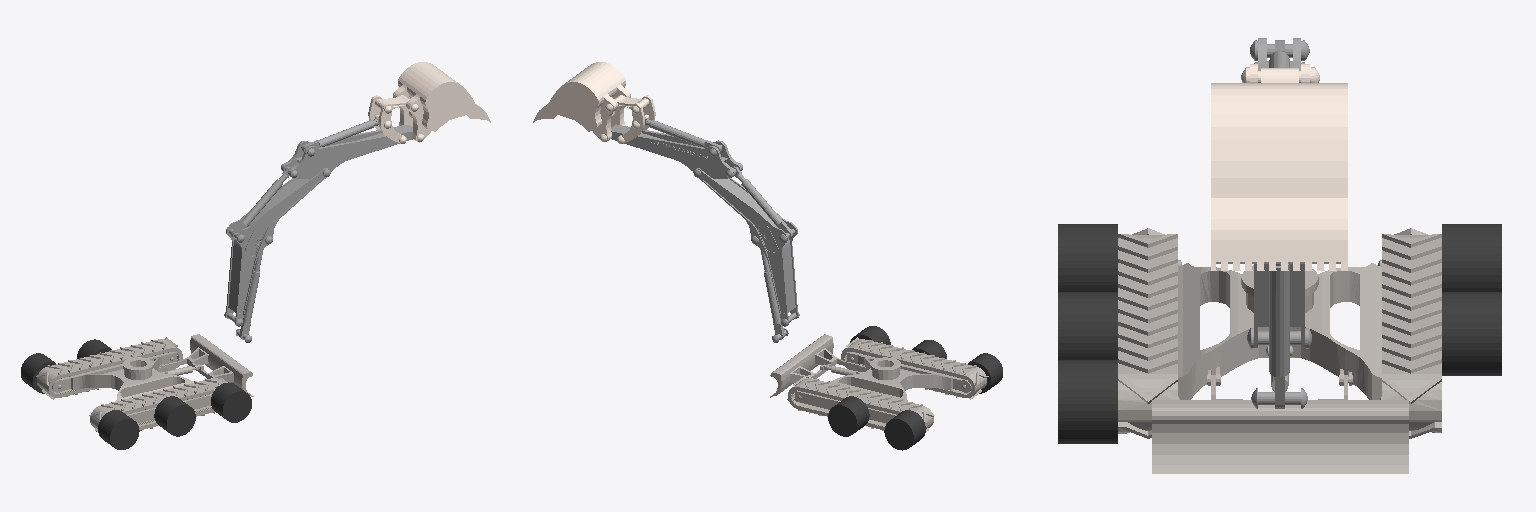
The robot description file, URDF, robot "excavator_six_wheels":
<?xml version="1.0" encoding="utf-8"?>
<!-- This URDF was automatically created by SolidWorks to URDF Exporter! Originally created by [author] ([email redacted]) 
     Commit Version: 1.6.0-4-g7f85cfe  Build Version: 1.6.7995.38578
     For more information, please see http://wiki.ros.org/sw_urdf_exporter -->
<robot
  name="excavator_six_wheels">
  <link
    name="base_link">
    <inertial>
      <origin
        xyz="0.4294466 0.0012485 0.0380234"
        rpy="0 0 0" />
      <mass
        value="1344.5600138" />
      <inertia
        ixx="488.87838"
        ixy="-1.5516108"
        ixz="-14.9719563"
        iyy="896.834612"
        iyz="-0.0436094"
        izz="1351.9933489" />
    </inertial>
    <visual>
      <origin
        xyz="0 0 0"
        rpy="0 0 0" />
      <geometry>
        <mesh
          filename="package://excavator_six_wheels/meshes/base_link.STL" />
      </geometry>
      <material
        name="">
        <color
          rgba="0.77647 0.75686 0.73725 1" />
      </material>
    </visual>
    <collision>
      <origin
        xyz="0 0 0"
        rpy="0 0 0" />
      <geometry>
        <mesh
          filename="package://excavator_six_wheels/meshes/base_link.STL" />
      </geometry>
    </collision>
  </link>
  <link
    name="body_yaw_link">
    <inertial>
      <origin
        xyz="0.059888 -0.0279846 0.310737"
        rpy="0 0 0" />
      <mass
        value="15120.6382761" />
      <inertia
        ixx="5306.8842701"
        ixy="534.6037913"
        ixz="123.0400587"
        iyy="7722.9004147"
        iyz="49.3613714"
        izz="9448.3819272" />
    </inertial>
    <visual>
      <origin
        xyz="0 0 0"
        rpy="0 0 0" />
      <geometry>
        <mesh
          filename="package://excavator_six_wheels/meshes/body_yaw_link.STL" />
      </geometry>
      <material
        name="">
        <color
          rgba="1 0.94902 0.9098 1" />
      </material>
    </visual>
    <collision>
      <origin
        xyz="0 0 0"
        rpy="0 0 0" />
      <geometry>
        <mesh
          filename="package://excavator_six_wheels/meshes/body_yaw_link.STL" />
      </geometry>
    </collision>
  </link>
  <joint
    name="body_yaw_joint"
    type="continuous">
    <origin
      xyz="0 0 0.36323"
      rpy="0 0 0" />
    <parent
      link="base_link" />
    <child
      link="body_yaw_link" />
    <axis
      xyz="0 0 1" />
  </joint>
  <link
    name="boom_pitch_link">
    <inertial>
      <origin
        xyz="0.4173408 -1.1341658 -0.0415453"
        rpy="0 0 0" />
      <mass
        value="724.9528599" />
      <inertia
        ixx="282.0599045"
        ixy="118.3342235"
        ixz="0.0157727"
        iyy="101.1092455"
        iyz="-0.2015522"
        izz="371.1804289" />
    </inertial>
    <visual>
      <origin
        xyz="0 0 0"
        rpy="0 0 0" />
      <geometry>
        <mesh
          filename="package://excavator_six_wheels/meshes/boom_pitch_link.STL" />
      </geometry>
      <material
        name="">
        <color
          rgba="0.69804 0.69804 0.69804 1" />
      </material>
    </visual>
    <collision>
      <origin
        xyz="0 0 0"
        rpy="0 0 0" />
      <geometry>
        <mesh
          filename="package://excavator_six_wheels/meshes/boom_pitch_link.STL" />
      </geometry>
    </collision>
  </link>
  <joint
    name="boom_pitch_joint"
    type="revolute">
    <origin
      xyz="1.5882 0.039526 0.36333"
      rpy="-1.5708 0 0" />
    <parent
      link="body_yaw_link" />
    <child
      link="boom_pitch_link" />
    <axis
      xyz="0 0 1" />
    <limit
      lower="0"
      upper="1.3703"
      effort="0"
      velocity="0" />
  </joint>
  <link
    name="forearm_pitch_link">
    <inertial>
      <origin
        xyz="0.3521181 -0.2255539 -0.328097"
        rpy="0 0 0" />
      <mass
        value="640.9527498" />
      <inertia
        ixx="17.2472302"
        ixy="14.7010027"
        ixz="-0.0567428"
        iyy="203.3293746"
        iyz="-0.0303271"
        izz="211.0722199" />
    </inertial>
    <visual>
      <origin
        xyz="0 0 0"
        rpy="0 0 0" />
      <geometry>
        <mesh
          filename="package://excavator_six_wheels/meshes/forearm_pitch_link.STL" />
      </geometry>
      <material
        name="">
        <color
          rgba="0.69804 0.69804 0.69804 1" />
      </material>
    </visual>
    <collision>
      <origin
        xyz="0 0 0"
        rpy="0 0 0" />
      <geometry>
        <mesh
          filename="package://excavator_six_wheels/meshes/forearm_pitch_link.STL" />
      </geometry>
    </collision>
  </link>
  <joint
    name="forearm_pitch_joint"
    type="revolute">
    <origin
      xyz="1.4233 -2.0381 0.28664"
      rpy="0 0 0" />
    <parent
      link="boom_pitch_link" />
    <child
      link="forearm_pitch_link" />
    <axis
      xyz="0 0 1" />
    <limit
      lower="0"
      upper="0.89604"
      effort="0"
      velocity="0" />
  </joint>
  <link
    name="bucket_pitch_link">
    <inertial>
      <origin
        xyz="0.1222283 -0.3650323 -0.6245809"
        rpy="0 0 0" />
      <mass
        value="643.2329046" />
      <inertia
        ixx="70.6614633"
        ixy="9.1064215"
        ixz="0.1324507"
        iyy="141.5186677"
        iyz="-0.0280834"
        izz="146.0667006" />
    </inertial>
    <visual>
      <origin
        xyz="0 0 0"
        rpy="0 0 0" />
      <geometry>
        <mesh
          filename="package://excavator_six_wheels/meshes/bucket_pitch_link.STL" />
      </geometry>
      <material
        name="">
        <color
          rgba="1 0.94902 0.9098 1" />
      </material>
    </visual>
    <collision>
      <origin
        xyz="0 0 0"
        rpy="0 0 0" />
      <geometry>
        <mesh
          filename="package://excavator_six_wheels/meshes/bucket_pitch_link.STL" />
      </geometry>
    </collision>
  </link>
  <joint
    name="bucket_pitch_joint"
    type="revolute">
    <origin
      xyz="1.4765 -0.24997 0.29735"
      rpy="0 0 0" />
    <parent
      link="forearm_pitch_link" />
    <child
      link="bucket_pitch_link" />
    <axis
      xyz="0 0 1" />
    <limit
      lower="0"
      upper="2.2837"
      effort="0"
      velocity="0" />
  </joint>
  <link
    name="left_wheel_link">
    <inertial>
      <origin
        xyz="0 0 0"
        rpy="0 0 0" />
      <mass
        value="80.8643451" />
      <inertia
        ixx="2.0389608"
        ixy="0"
        ixz="0"
        iyy="2.0389608"
        iyz="2.47E-05"
        izz="2.4269412" />
    </inertial>
    <visual>
      <origin
        xyz="0 0 0"
        rpy="0 0 0" />
      <geometry>
        <mesh
          filename="package://excavator_six_wheels/meshes/left_wheel_link.STL" />
      </geometry>
      <material
        name="">
        <color
          rgba="0.29804 0.29804 0.29804 1" />
      </material>
    </visual>
    <collision>
      <origin
        xyz="0 0 0"
        rpy="0 0 0" />
      <geometry>
        <mesh
          filename="package://excavator_six_wheels/meshes/left_wheel_link.STL" />
      </geometry>
    </collision>
  </link>
  <joint
    name="left_wheel_joint"
    type="continuous">
    <origin
      xyz="-0.029784 1.1184 0"
      rpy="-1.5708 0 0" />
    <parent
      link="base_link" />
    <child
      link="left_wheel_link" />
    <axis
      xyz="0 0 1" />
  </joint>
  <link
    name="right_wheel_link">
    <inertial>
      <origin
        xyz="0 0 0"
        rpy="0 0 0" />
      <mass
        value="80.8643451" />
      <inertia
        ixx="2.0389608"
        ixy="0"
        ixz="0"
        iyy="2.0389608"
        iyz="2.47E-05"
        izz="2.4269412" />
    </inertial>
    <visual>
      <origin
        xyz="0 0 0"
        rpy="0 0 0" />
      <geometry>
        <mesh
          filename="package://excavator_six_wheels/meshes/right_wheel_link.STL" />
      </geometry>
      <material
        name="">
        <color
          rgba="0.29804 0.29804 0.29804 1" />
      </material>
    </visual>
    <collision>
      <origin
        xyz="0 0 0"
        rpy="0 0 0" />
      <geometry>
        <mesh
          filename="package://excavator_six_wheels/meshes/right_wheel_link.STL" />
      </geometry>
    </collision>
  </link>
  <joint
    name="right_wheel_joint"
    type="continuous">
    <origin
      xyz="-0.029784 -1.1174 0"
      rpy="-1.5708 0 0" />
    <parent
      link="base_link" />
    <child
      link="right_wheel_link" />
    <axis
      xyz="0 0 1" />
  </joint>
  <link
    name="left_front_wheel_link">
    <inertial>
      <origin
        xyz="0 0 0"
        rpy="0 0 0" />
      <mass
        value="80.8643451" />
      <inertia
        ixx="2.0389608"
        ixy="0"
        ixz="0"
        iyy="2.0389608"
        iyz="2.47E-05"
        izz="2.4269412" />
    </inertial>
    <visual>
      <origin
        xyz="0 0 0"
        rpy="0 0 0" />
      <geometry>
        <mesh
          filename="package://excavator_six_wheels/meshes/left_front_wheel_link.STL" />
      </geometry>
      <material
        name="">
        <color
          rgba="0.29804 0.29804 0.29804 1" />
      </material>
    </visual>
    <collision>
      <origin
        xyz="0 0 0"
        rpy="0 0 0" />
      <geometry>
        <mesh
          filename="package://excavator_six_wheels/meshes/left_front_wheel_link.STL" />
      </geometry>
    </collision>
  </link>
  <joint
    name="left_front_wheel_joint"
    type="continuous">
    <origin
      xyz="0.90862 1.1184 0"
      rpy="-1.5708 0 0" />
    <parent
      link="base_link" />
    <child
      link="left_front_wheel_link" />
    <axis
      xyz="0 0 1" />
  </joint>
  <link
    name="left_behind_wheel_link">
    <inertial>
      <origin
        xyz="0 0 0"
        rpy="0 0 0" />
      <mass
        value="80.8643451" />
      <inertia
        ixx="2.0389608"
        ixy="0"
        ixz="0"
        iyy="2.0389608"
        iyz="2.47E-05"
        izz="2.4269412" />
    </inertial>
    <visual>
      <origin
        xyz="0 0 0"
        rpy="0 0 0" />
      <geometry>
        <mesh
          filename="package://excavator_six_wheels/meshes/left_behind_wheel_link.STL" />
      </geometry>
      <material
        name="">
        <color
          rgba="0.29804 0.29804 0.29804 1" />
      </material>
    </visual>
    <collision>
      <origin
        xyz="0 0 0"
        rpy="0 0 0" />
      <geometry>
        <mesh
          filename="package://excavator_six_wheels/meshes/left_behind_wheel_link.STL" />
      </geometry>
    </collision>
  </link>
  <joint
    name="left_behind_wheel_joint"
    type="continuous">
    <origin
      xyz="-0.96819 1.1184 0"
      rpy="-1.5708 0 0" />
    <parent
      link="base_link" />
    <child
      link="left_behind_wheel_link" />
    <axis
      xyz="0 0 1" />
  </joint>
  <link
    name="right_front_wheel_link">
    <inertial>
      <origin
        xyz="0 0 0"
        rpy="0 0 0" />
      <mass
        value="80.8643451" />
      <inertia
        ixx="2.0389608"
        ixy="0"
        ixz="0"
        iyy="2.0389608"
        iyz="2.47E-05"
        izz="2.4269412" />
    </inertial>
    <visual>
      <origin
        xyz="0 0 0"
        rpy="0 0 0" />
      <geometry>
        <mesh
          filename="package://excavator_six_wheels/meshes/right_front_wheel_link.STL" />
      </geometry>
      <material
        name="">
        <color
          rgba="0.29804 0.29804 0.29804 1" />
      </material>
    </visual>
    <collision>
      <origin
        xyz="0 0 0"
        rpy="0 0 0" />
      <geometry>
        <mesh
          filename="package://excavator_six_wheels/meshes/right_front_wheel_link.STL" />
      </geometry>
    </collision>
  </link>
  <joint
    name="right_front_wheel_joint"
    type="continuous">
    <origin
      xyz="0.90862 -1.1179 0"
      rpy="-1.5708 0 0" />
    <parent
      link="base_link" />
    <child
      link="right_front_wheel_link" />
    <axis
      xyz="0 0 1" />
  </joint>
  <link
    name="right_behind_wheel_link">
    <inertial>
      <origin
        xyz="0 0 0"
        rpy="0 0 0" />
      <mass
        value="80.8643451" />
      <inertia
        ixx="2.0389608"
        ixy="0"
        ixz="0"
        iyy="2.0389608"
        iyz="2.47E-05"
        izz="2.4269412" />
    </inertial>
    <visual>
      <origin
        xyz="0 0 0"
        rpy="0 0 0" />
      <geometry>
        <mesh
          filename="package://excavator_six_wheels/meshes/right_behind_wheel_link.STL" />
      </geometry>
      <material
        name="">
        <color
          rgba="0.29804 0.29804 0.29804 1" />
      </material>
    </visual>
    <collision>
      <origin
        xyz="0 0 0"
        rpy="0 0 0" />
      <geometry>
        <mesh
          filename="package://excavator_six_wheels/meshes/right_behind_wheel_link.STL" />
      </geometry>
    </collision>
  </link>
  <joint
    name="right_behind_wheel_joint"
    type="continuous">
    <origin
      xyz="-0.96819 -1.1174 0"
      rpy="-1.5708 0 0" />
    <parent
      link="base_link" />
    <child
      link="right_behind_wheel_link" />
    <axis
      xyz="0 0 1" />
  </joint>
</robot>

--- Render facts (derived) ---
Views: 3 orthographic renders of the robot side by side, from view 1: azimuth 30°, elevation 25°; view 2: azimuth 150°, elevation 25°; view 3: azimuth 270°, elevation 25°.
Model excavator_six_wheels with 11 links and 10 joints (3 revolute, 7 continuous), rooted at base_link, posed every joint at zero.
Links seen in each view (by area): view 1: base_link, boom_pitch_link, bucket_pitch_link, forearm_pitch_link, right_wheel_link, right_behind_wheel_link, right_front_wheel_link, left_behind_wheel_link; view 2: base_link, boom_pitch_link, bucket_pitch_link, forearm_pitch_link, left_wheel_link, left_behind_wheel_link, right_behind_wheel_link; view 3: base_link, bucket_pitch_link, boom_pitch_link, left_wheel_link, right_front_wheel_link, right_wheel_link, left_behind_wheel_link, right_behind_wheel_link, forearm_pitch_link.
Boxes of the visible links, x1=… form: base_link: x1=36, y1=334, x2=253, y2=431; boom_pitch_link: x1=224, y1=167, x2=329, y2=342; bucket_pitch_link: x1=368, y1=62, x2=490, y2=143; forearm_pitch_link: x1=281, y1=117, x2=412, y2=179; right_wheel_link: x1=154, y1=396, x2=195, y2=436; right_behind_wheel_link: x1=98, y1=410, x2=139, y2=449; right_front_wheel_link: x1=211, y1=382, x2=251, y2=422; left_behind_wheel_link: x1=21, y1=353, x2=55, y2=393; base_link: x1=770, y1=334, x2=988, y2=431; boom_pitch_link: x1=694, y1=166, x2=799, y2=342; bucket_pitch_link: x1=533, y1=62, x2=655, y2=143; forearm_pitch_link: x1=611, y1=117, x2=742, y2=178; left_wheel_link: x1=828, y1=396, x2=869, y2=436; left_behind_wheel_link: x1=884, y1=410, x2=925, y2=450; right_behind_wheel_link: x1=968, y1=353, x2=1002, y2=393; base_link: x1=1118, y1=228, x2=1441, y2=473; bucket_pitch_link: x1=1211, y1=64, x2=1347, y2=270; boom_pitch_link: x1=1247, y1=264, x2=1311, y2=408; left_wheel_link: x1=1442, y1=292, x2=1501, y2=375; right_front_wheel_link: x1=1058, y1=360, x2=1117, y2=443; right_wheel_link: x1=1058, y1=292, x2=1117, y2=359; left_behind_wheel_link: x1=1442, y1=224, x2=1501, y2=291; right_behind_wheel_link: x1=1058, y1=224, x2=1117, y2=291; forearm_pitch_link: x1=1250, y1=38, x2=1309, y2=70.
Size in the robot's own frame: 6.86 by 2.59 by 4.12 metres.
9 mesh visuals loaded from 11 distinct referenced files (9 binary STL); not drawn: 2 (reference not matched to a file when rendering).